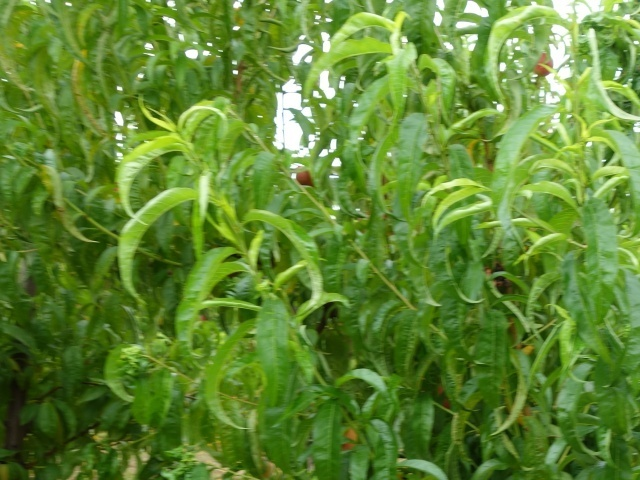peach: (530, 49, 558, 79), (292, 165, 317, 193)
